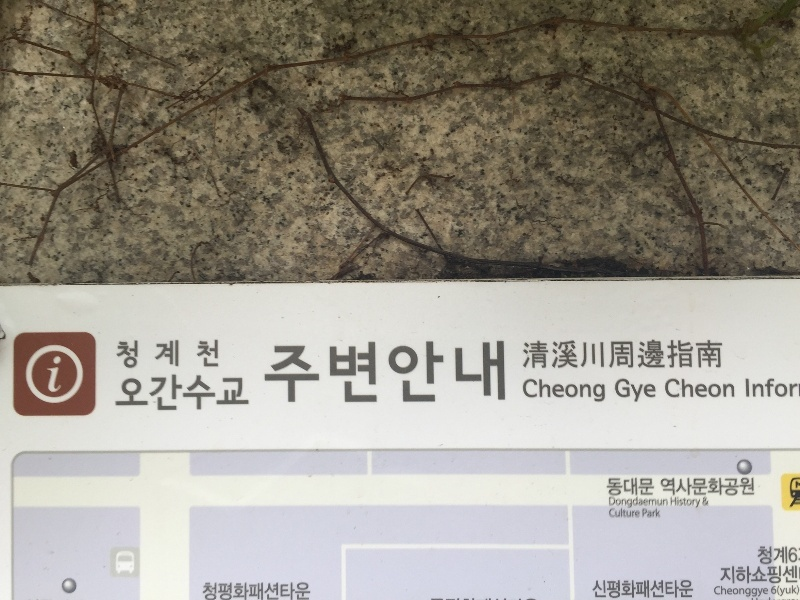text: (273, 337, 288, 405), (289, 337, 304, 405), (305, 337, 320, 405), (321, 337, 336, 405), (337, 337, 352, 405), (353, 337, 368, 405), (369, 337, 384, 405), (385, 337, 400, 405), (401, 337, 416, 405), (417, 337, 432, 405), (433, 337, 448, 405), (449, 337, 464, 405), (465, 337, 480, 405), (481, 337, 496, 405), (497, 337, 507, 405), (129, 374, 144, 413), (145, 374, 160, 413), (161, 374, 176, 413), (177, 374, 192, 413), (193, 374, 208, 413), (209, 374, 224, 413), (225, 374, 240, 413), (49, 356, 63, 395), (264, 337, 272, 405), (529, 340, 544, 372), (545, 340, 560, 372), (561, 340, 576, 372), (577, 340, 592, 372), (593, 340, 608, 372), (609, 340, 624, 372), (625, 340, 640, 372), (641, 340, 656, 372), (657, 340, 672, 372), (673, 340, 688, 372), (689, 340, 704, 372), (705, 340, 720, 372), (129, 338, 144, 369), (145, 338, 160, 369), (161, 338, 176, 369), (177, 338, 192, 369), (193, 338, 208, 369), (641, 378, 657, 405), (529, 378, 544, 406), (545, 378, 560, 406), (561, 378, 576, 406), (577, 378, 592, 406), (625, 378, 640, 405), (593, 378, 607, 406), (116, 338, 128, 369), (673, 378, 688, 402), (689, 378, 704, 402), (705, 378, 720, 402), (721, 378, 736, 402), (241, 374, 250, 413), (753, 378, 768, 400), (769, 378, 784, 400), (785, 378, 800, 400), (209, 338, 219, 369), (769, 546, 784, 566), (609, 477, 624, 497), (625, 477, 640, 497), (673, 477, 688, 497), (689, 477, 704, 497), (705, 477, 720, 497), (721, 477, 736, 497), (737, 477, 752, 497), (593, 580, 608, 599), (609, 580, 624, 599), (625, 580, 640, 599), (641, 580, 656, 599), (657, 580, 672, 599), (673, 580, 688, 599), (721, 566, 736, 585), (737, 566, 752, 585), (753, 566, 768, 585), (769, 566, 784, 585), (641, 477, 655, 497), (614, 378, 624, 405), (785, 546, 798, 566), (209, 583, 224, 600), (225, 583, 240, 600), (241, 583, 256, 600), (257, 583, 272, 600), (273, 583, 288, 600), (289, 583, 304, 600), (785, 566, 798, 585), (756, 546, 768, 566), (660, 477, 672, 497), (673, 496, 688, 510), (123, 374, 128, 413), (721, 586, 736, 599), (737, 586, 752, 599), (753, 586, 768, 599), (609, 497, 624, 510), (625, 497, 640, 510), (641, 497, 656, 510), (664, 378, 672, 402), (689, 496, 702, 510), (744, 378, 752, 400), (522, 378, 528, 406), (770, 585, 784, 597), (785, 585, 799, 597), (609, 508, 624, 519), (625, 508, 640, 519), (657, 497, 669, 510), (642, 508, 656, 519), (524, 340, 528, 372), (721, 340, 725, 372), (305, 583, 311, 600), (689, 580, 694, 599), (203, 583, 208, 600), (714, 586, 720, 599), (657, 508, 661, 519), (705, 497, 709, 507), (753, 477, 755, 497), (47, 356, 48, 395), (670, 496, 672, 510), (702, 497, 704, 507), (607, 477, 608, 497), (719, 566, 720, 585)
